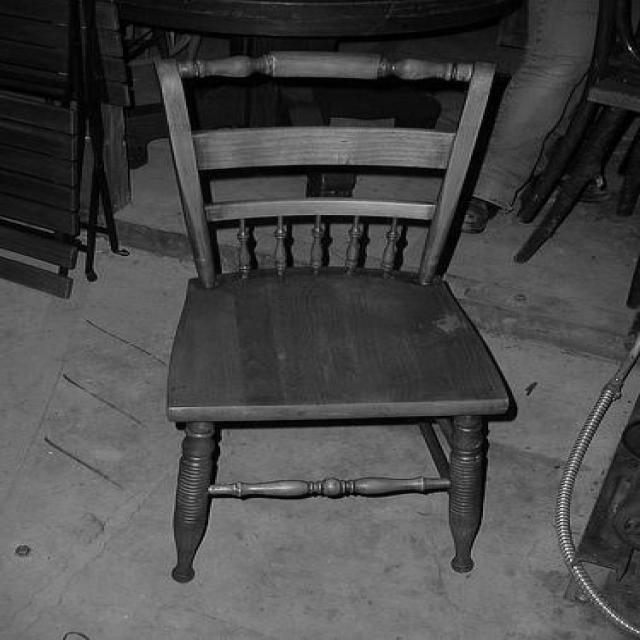chair: (141, 60, 528, 582)
